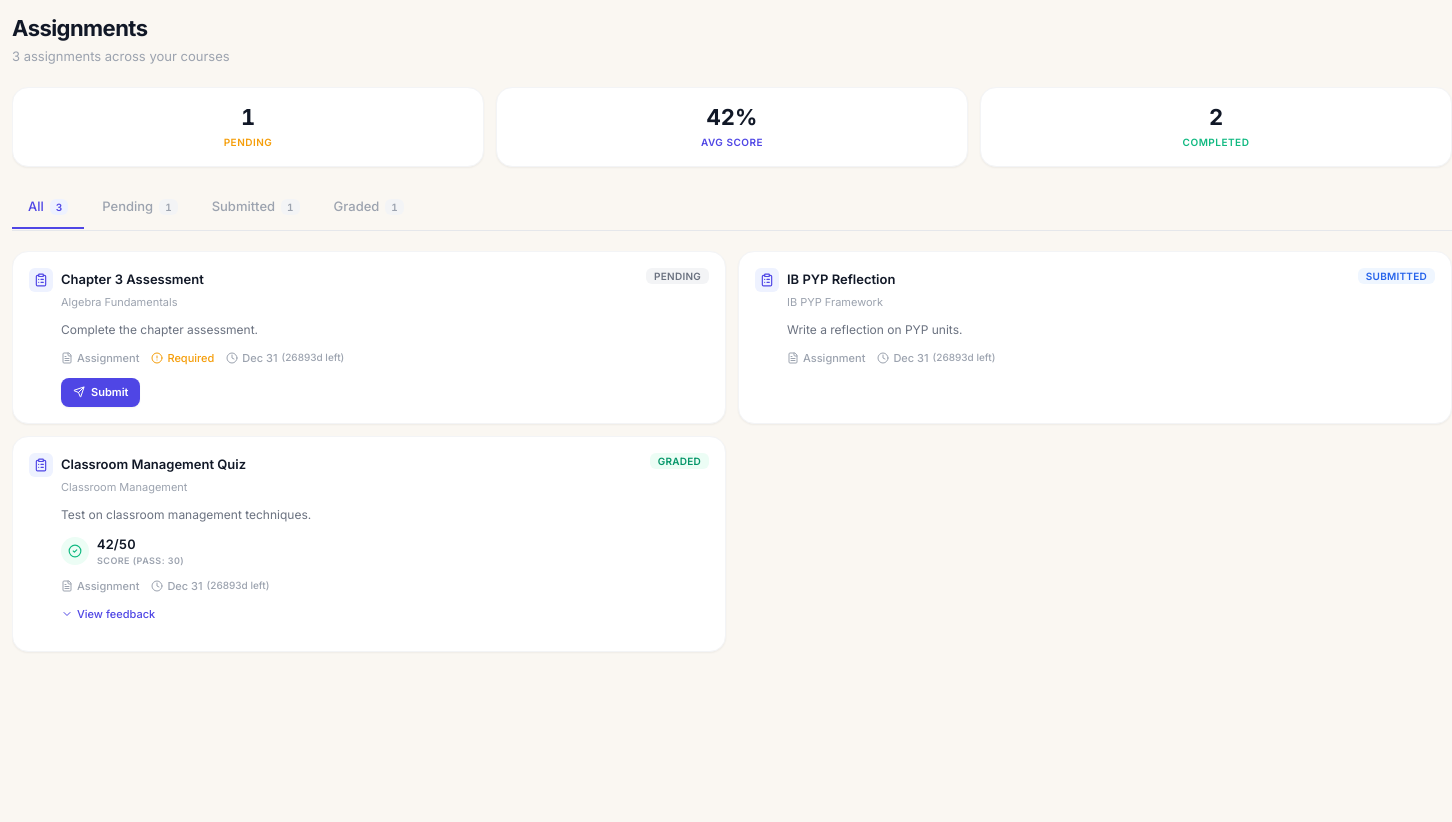
it: Student AssignmentsPage › Empty state — Pending tab › shows "All caught up!" when Pending tab has no items
Expected: the heading "Chapter 3 Assessment" is shown, left=61, top=271, right=204, bottom=288
Click the button "Pending1": (140,208) left=86, top=187, right=194, bottom=228
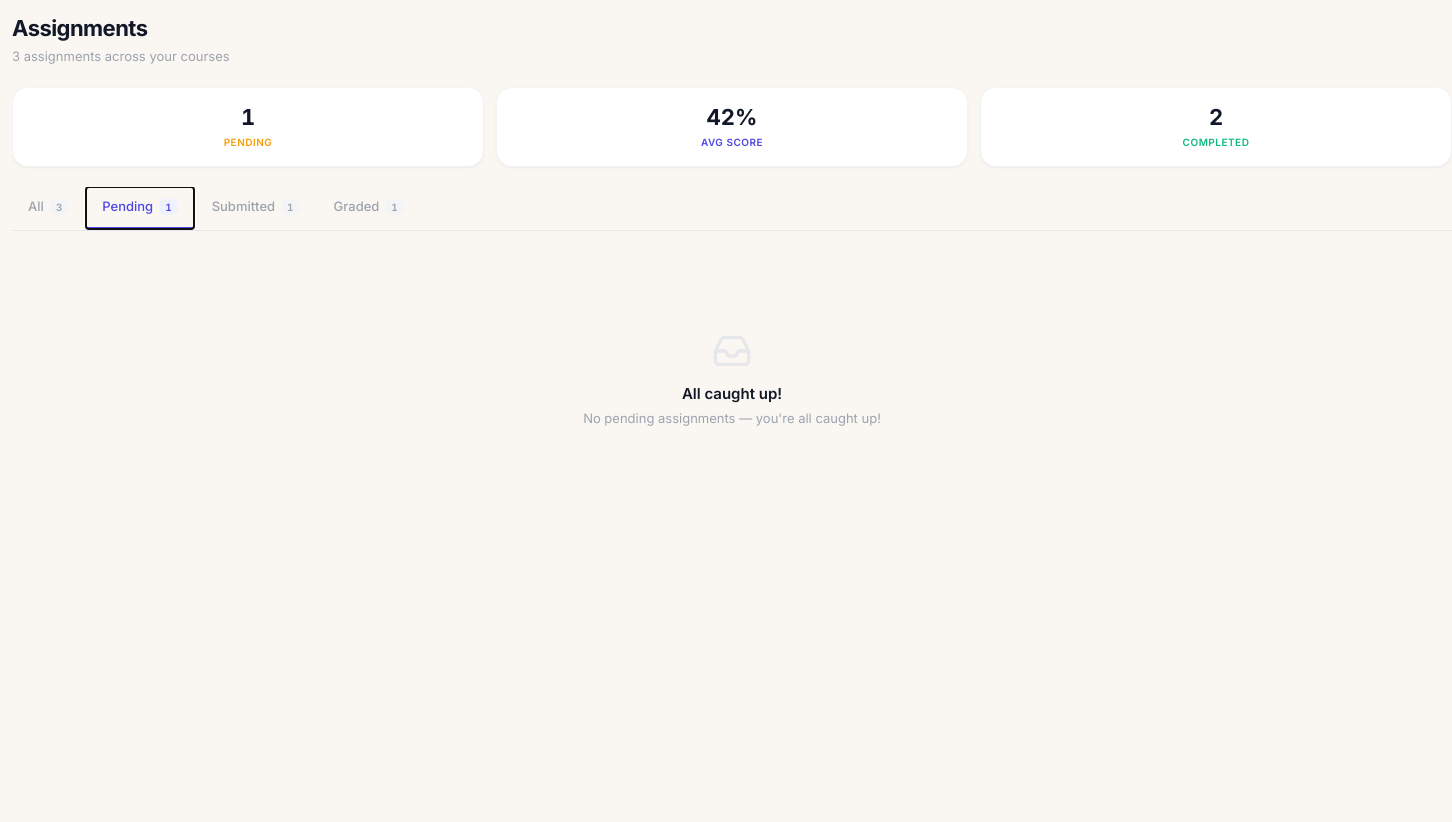
Expected: the heading "All caught up!" is shown, left=682, top=384, right=782, bottom=402
